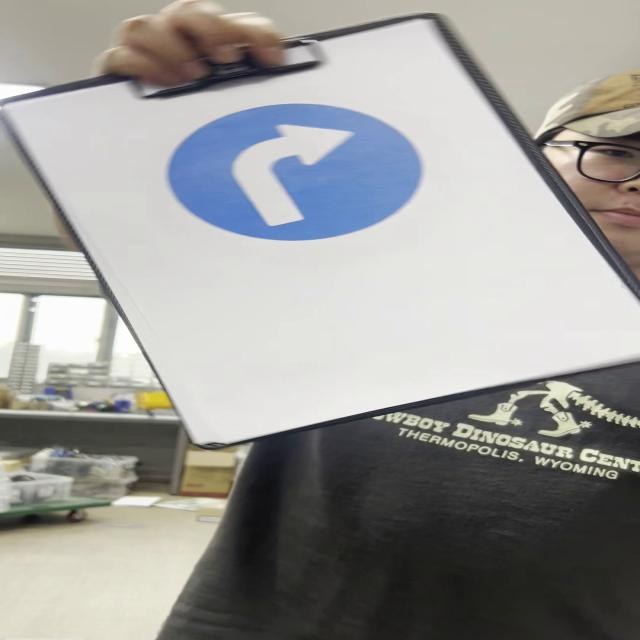right: (170, 102, 430, 243)
